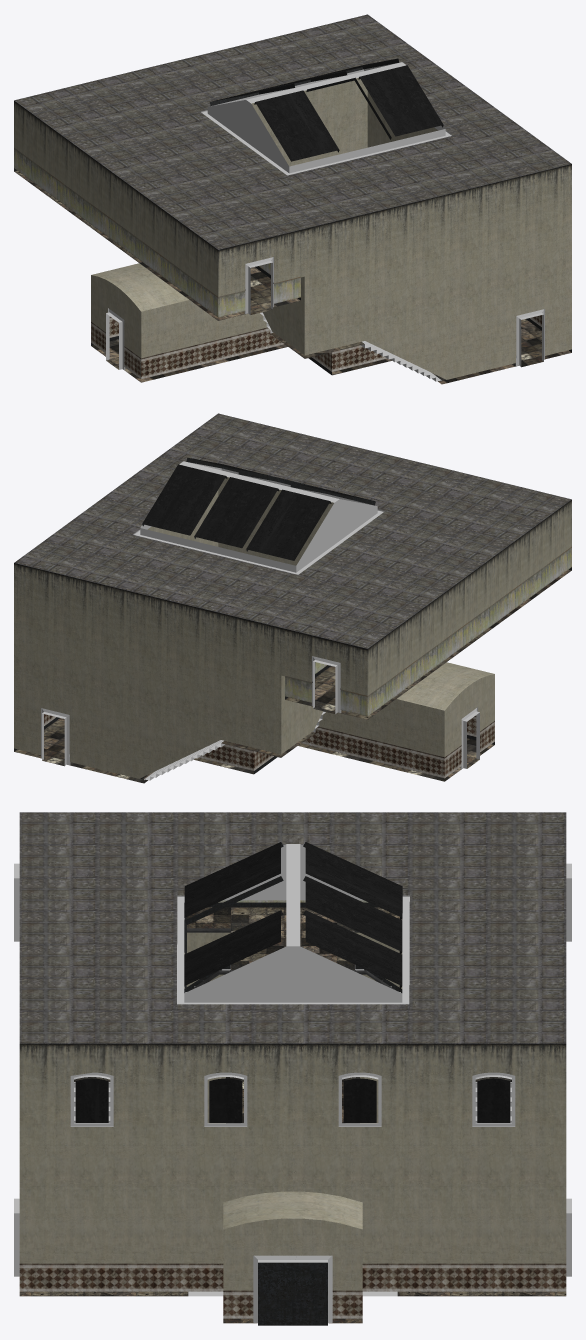
Rendered from FoyerRoom.FBX.
3 renders of one model, top to bottom at view 1: azimuth 30°, elevation 25°; view 2: azimuth 150°, elevation 25°; view 3: azimuth 270°, elevation 25°, orthographic. The views are drawn at different scales.
Visible parts, largest first — view 1: FoyerRoom_SectionA, FoyerRoom_SectionB, FoyerRoom_SectionC, FoyerRoom_SectionD, FoyerRoom_Hall; view 2: FoyerRoom_SectionC, FoyerRoom_SectionD, FoyerRoom_SectionB, FoyerRoom_SectionA, FoyerRoom_Hall; view 3: FoyerRoom_SectionC, FoyerRoom_SectionA, FoyerRoom_SectionB, FoyerRoom_SectionD, FoyerRoom_Enter.
Part boxes in pixels (box(x1,y1,x2,y2)): FoyerRoom_SectionA: box(245, 65, 571, 384); FoyerRoom_SectionB: box(116, 144, 441, 374); FoyerRoom_SectionC: box(142, 14, 468, 166); FoyerRoom_SectionD: box(14, 69, 243, 245); FoyerRoom_Hall: box(91, 263, 287, 382); FoyerRoom_SectionC: box(14, 461, 340, 783); FoyerRoom_SectionD: box(144, 543, 469, 773); FoyerRoom_SectionB: box(342, 468, 571, 644); FoyerRoom_SectionA: box(116, 413, 443, 565); FoyerRoom_Hall: box(298, 662, 494, 781); FoyerRoom_SectionC: box(283, 842, 571, 1296); FoyerRoom_SectionA: box(14, 842, 293, 1296); FoyerRoom_SectionB: box(14, 812, 293, 1123); FoyerRoom_SectionD: box(293, 812, 571, 1123); FoyerRoom_Enter: box(223, 1191, 362, 1325).
Size of what is drawn, in the model's own units: 2106 by 1163 by 1890.
